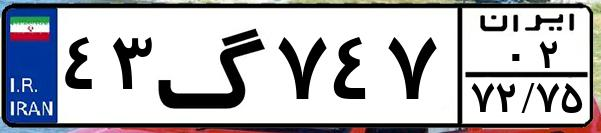0: (508, 27, 537, 80)
2: (537, 27, 568, 80), (495, 70, 520, 125)
3: (110, 28, 156, 98)
4: (330, 28, 385, 110), (57, 26, 110, 100)
5: (560, 70, 590, 125)
7: (270, 28, 330, 110), (385, 28, 445, 110), (470, 70, 495, 125), (535, 70, 560, 125)
گ: (156, 12, 270, 120)
